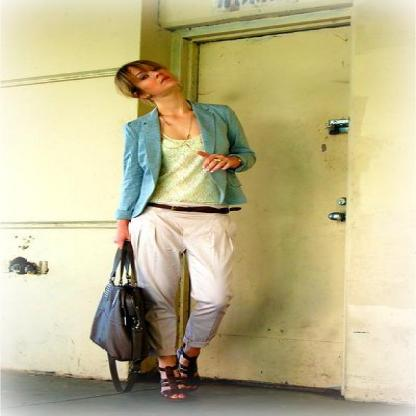bag: (90, 241, 158, 382)
jacket: (116, 103, 257, 219)
pants: (129, 208, 233, 357)
shirt: (137, 134, 225, 216)
shoe: (148, 362, 198, 402)
